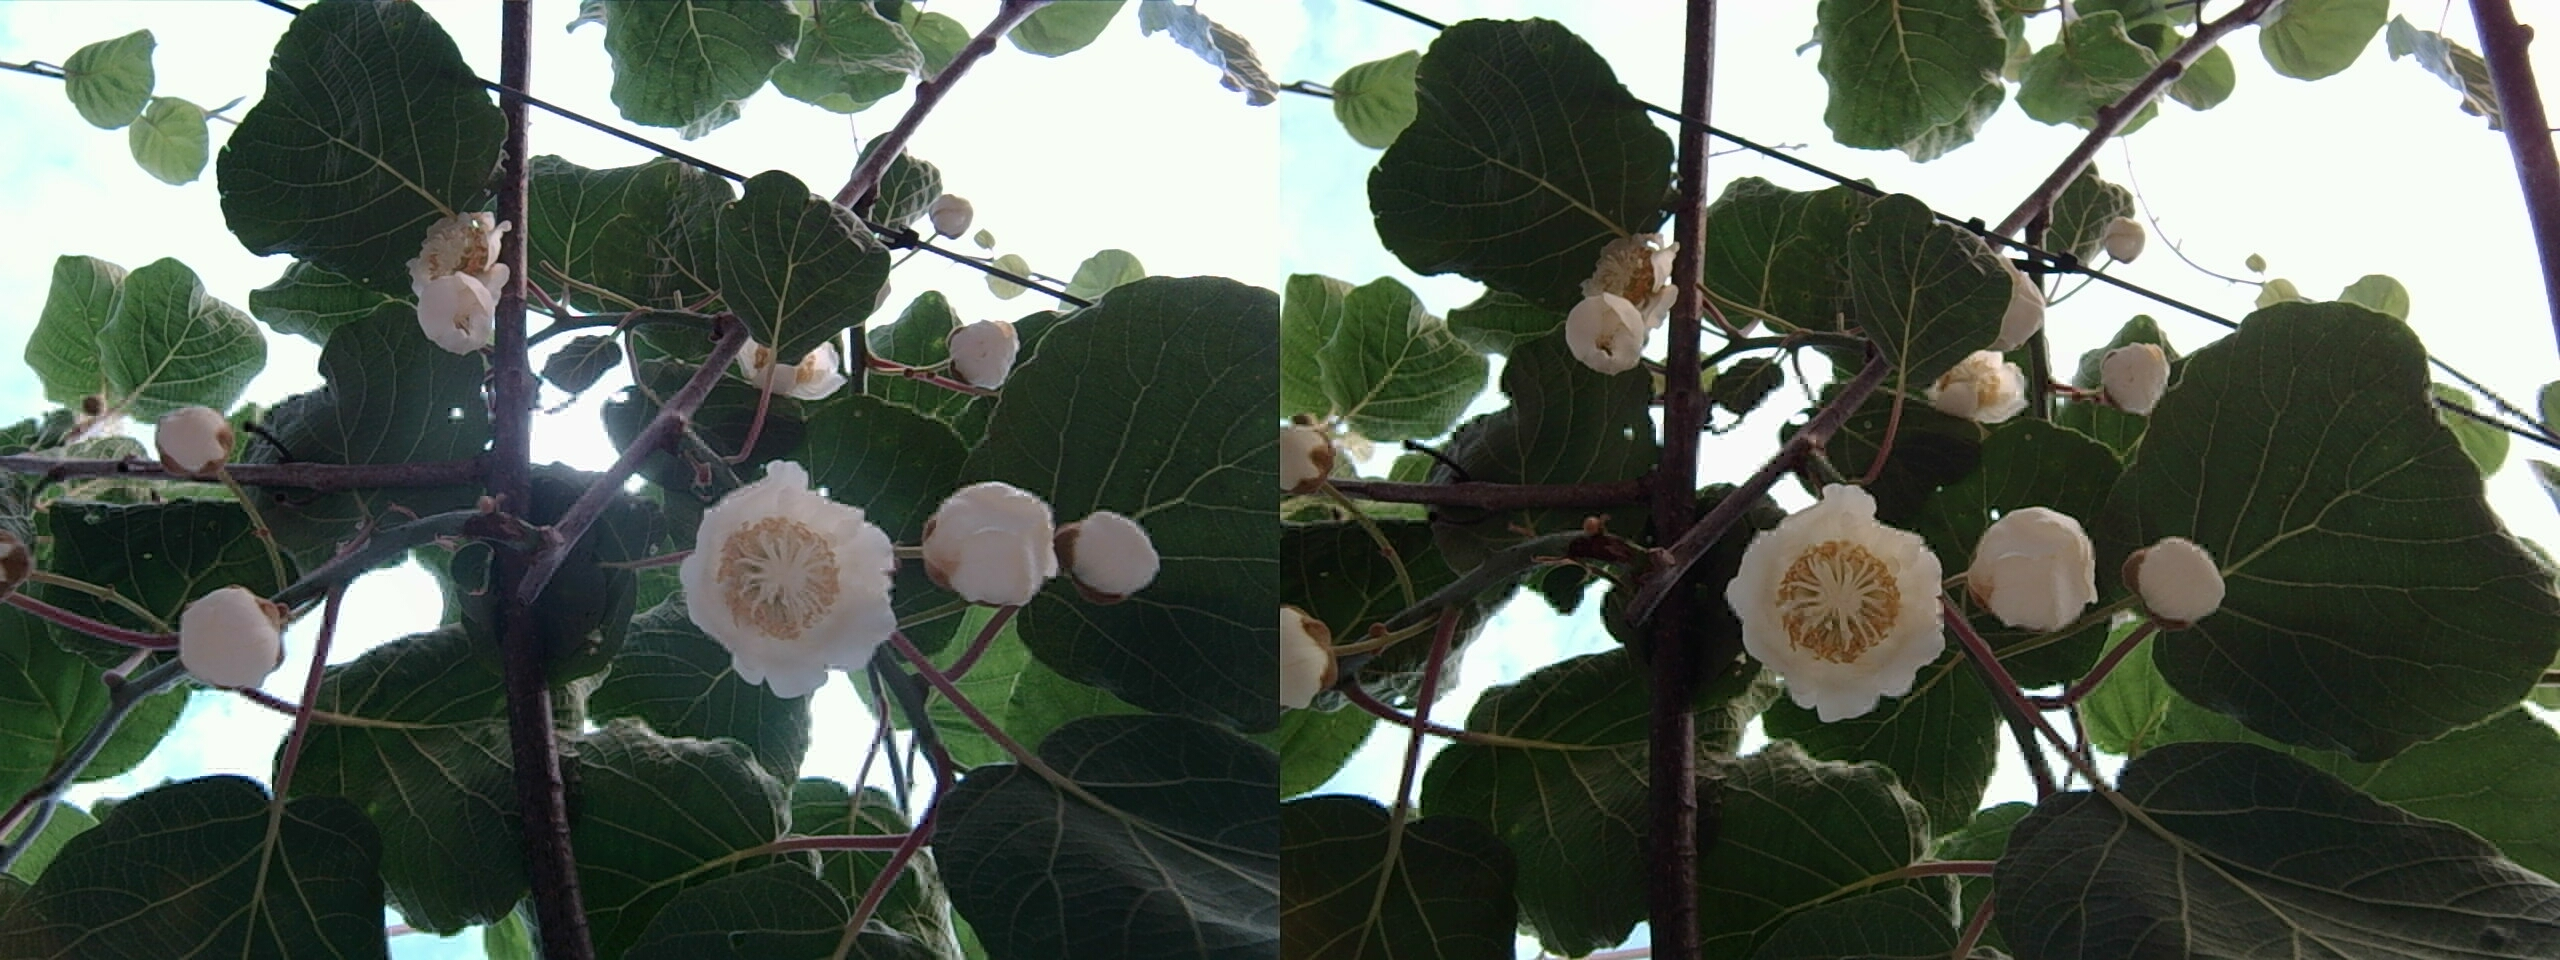flower: (1722, 477, 1953, 717), (678, 456, 898, 686), (919, 478, 1073, 602), (410, 211, 504, 354)
